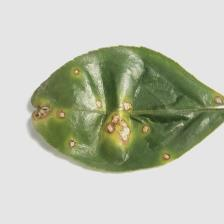canker: (30, 76, 174, 164)
